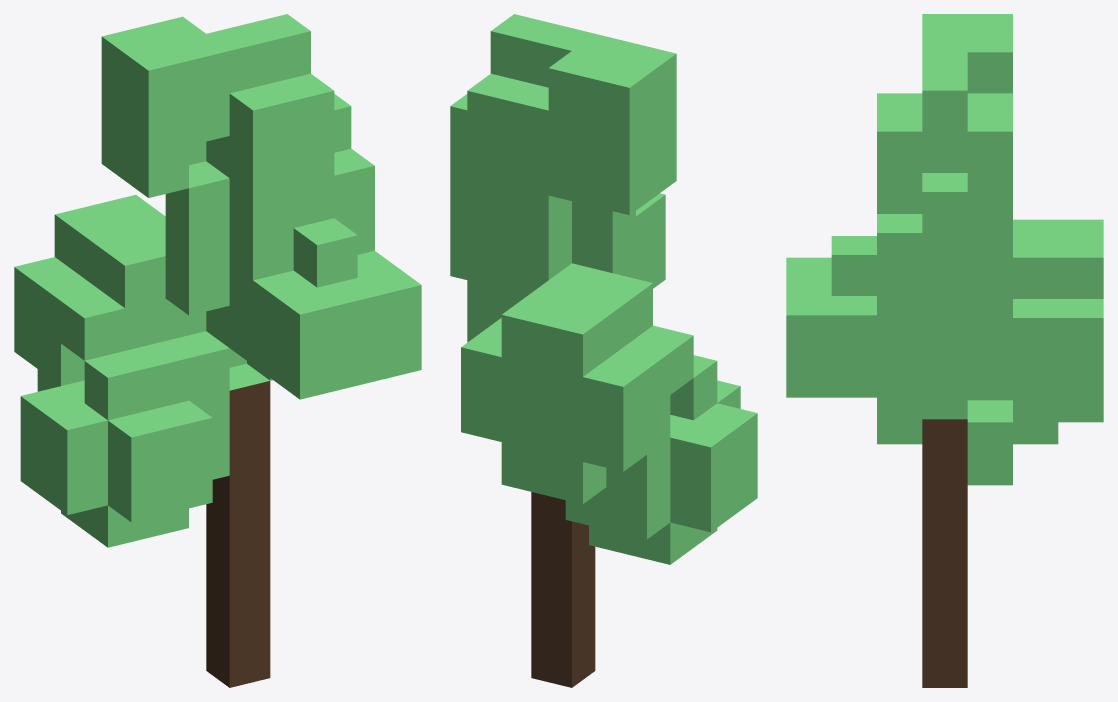
Rendered from tree8.fbx.
3 views of the same model, side by side, from view 1: azimuth 30°, elevation 25°; view 2: azimuth 150°, elevation 25°; view 3: azimuth 270°, elevation 25° (orthographic). The views are drawn at different scales.
Parts seen in each view (by area): view 1: Sphere.029; view 2: Sphere.029; view 3: Sphere.029.
Part boxes in pixels (x1,y1,x2,y2): Sphere.029: [14, 14, 421, 687]; Sphere.029: [450, 14, 757, 687]; Sphere.029: [786, 14, 1103, 687].
Size of the model in its own units: 702 by 1504 by 702.
